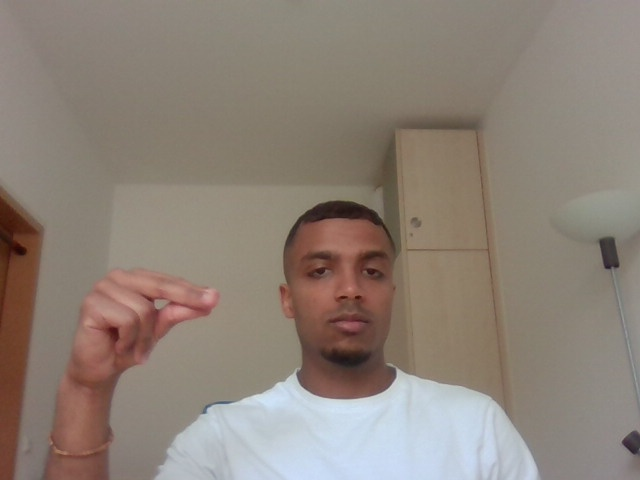no: (54, 251, 234, 397)
